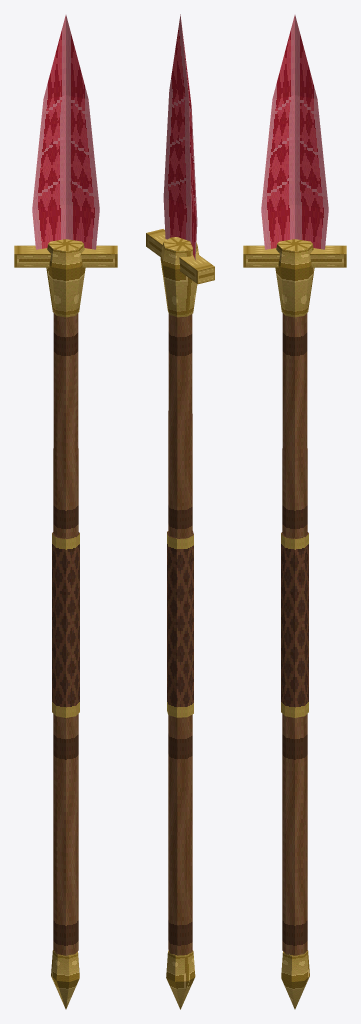
File: lanca_de_rubi.glb
The picture shows the model from 3 angles, left to right: view 1: azimuth 90°, elevation 25°; view 2: azimuth 210°, elevation 25°; view 3: azimuth 270°, elevation 25°; orthographic projection.
Visible parts, largest first — view 1: lanca_de_rubi; view 2: lanca_de_rubi; view 3: lanca_de_rubi.
Boxes of the visible parts, x1,y1,x2,y2 form: lanca_de_rubi: (14,15,117,1009); lanca_de_rubi: (146,14,214,1009); lanca_de_rubi: (243,15,346,1009).
Bounding box in the file's own units: 0.088 × 2.34 × 0.22.
Materials: 1 (1 with a texture image).
